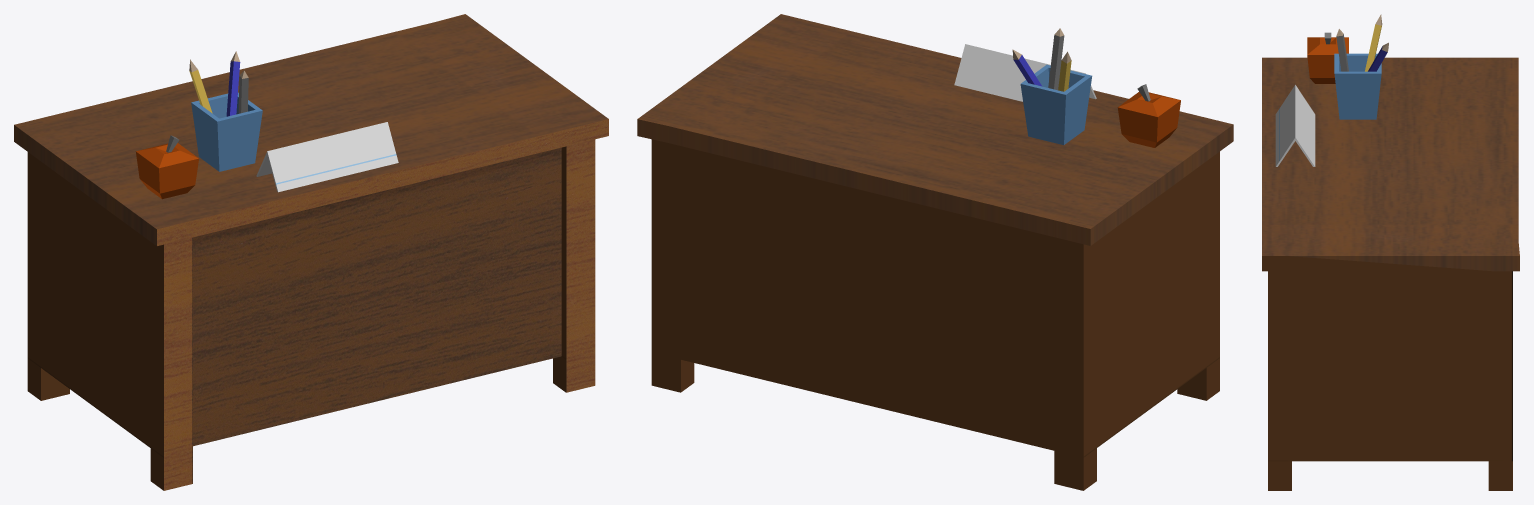
File: classroom_teacherdesk.fbx
3 views of the same model, side by side, from view 1: azimuth 30°, elevation 25°; view 2: azimuth 150°, elevation 25°; view 3: azimuth 270°, elevation 25° (orthographic). The views are drawn at different scales.
Parts seen in each view (by area): view 1: pCube14; view 2: pCube14; view 3: pCube14.
Boxes of the visible parts, x1,y1,x2,y2 form: pCube14: (14, 14, 608, 490); pCube14: (637, 14, 1233, 490); pCube14: (1262, 14, 1519, 490).
Bounding box in the file's own units: 3.79 × 2.91 × 2.08.
Materials: 10 (2 with a texture image).
